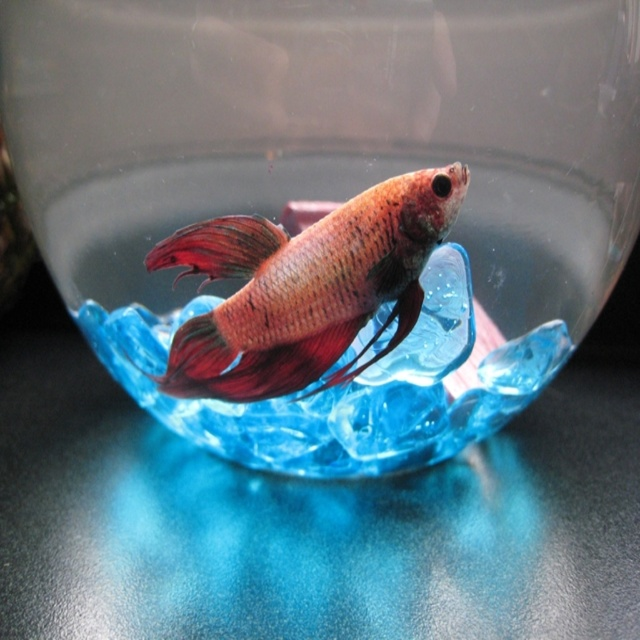Goldfish: (104, 162, 534, 468)
